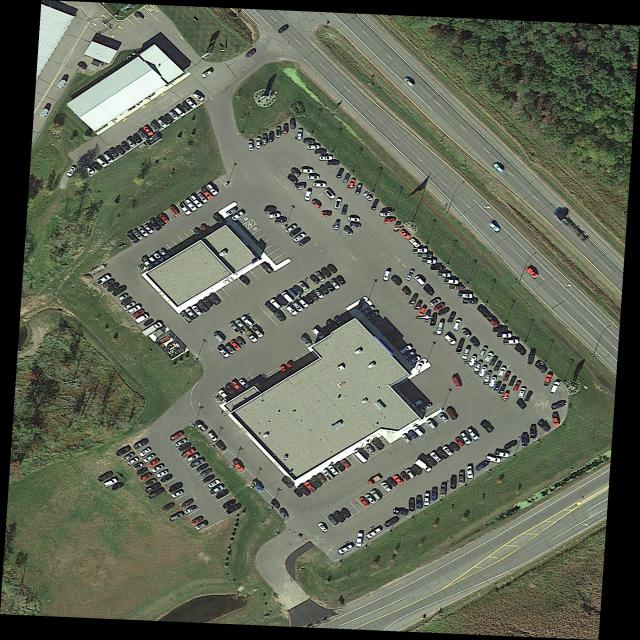large-vehicle: (141, 322, 164, 337), (235, 319, 249, 333), (466, 428, 480, 441), (366, 528, 382, 539), (383, 517, 399, 528), (536, 420, 550, 432), (486, 316, 500, 328), (477, 306, 490, 318), (526, 267, 539, 279), (241, 316, 254, 328), (251, 326, 264, 338), (460, 432, 472, 445), (480, 421, 493, 433), (446, 408, 458, 421), (411, 426, 425, 437), (451, 376, 462, 389), (399, 345, 412, 355), (393, 508, 409, 516), (423, 286, 434, 297), (443, 278, 459, 285), (430, 313, 438, 326), (414, 276, 425, 285), (371, 199, 380, 210), (503, 339, 519, 345), (416, 497, 423, 510), (436, 322, 444, 333), (521, 435, 528, 447), (408, 500, 415, 512), (457, 293, 473, 298), (449, 285, 465, 290), (530, 427, 537, 438), (493, 328, 508, 333), (463, 299, 478, 304), (497, 334, 511, 338)
small-vehicle: (413, 458, 431, 473), (224, 384, 239, 398), (149, 487, 166, 499), (224, 503, 241, 515), (353, 449, 367, 463), (111, 285, 127, 297), (132, 439, 149, 450), (212, 213, 226, 226), (207, 293, 221, 306), (367, 473, 381, 486), (251, 478, 264, 492), (371, 438, 385, 451), (145, 482, 161, 493), (338, 544, 354, 555), (190, 195, 203, 208), (199, 223, 212, 236), (179, 311, 192, 324), (279, 365, 292, 378), (534, 362, 548, 374), (230, 381, 244, 393), (245, 331, 259, 343), (195, 420, 209, 432), (281, 476, 295, 488), (298, 484, 312, 496), (303, 481, 317, 493), (228, 322, 242, 334), (167, 483, 183, 493), (179, 203, 192, 215), (142, 258, 155, 270), (231, 459, 243, 472), (333, 511, 346, 523), (215, 440, 228, 452), (185, 308, 198, 320), (276, 23, 290, 34), (264, 302, 278, 313), (311, 328, 325, 339), (475, 461, 489, 472), (504, 439, 518, 450), (116, 446, 131, 456), (98, 472, 113, 482), (365, 310, 380, 320), (169, 430, 184, 440), (217, 346, 229, 358), (149, 219, 161, 231), (424, 455, 436, 467), (430, 452, 443, 463), (185, 200, 198, 211), (201, 188, 214, 199), (206, 184, 219, 195), (218, 390, 231, 401), (193, 229, 206, 240), (200, 297, 213, 308), (408, 293, 419, 306), (285, 363, 298, 374), (281, 292, 294, 303), (273, 311, 285, 322), (127, 232, 139, 243), (197, 301, 209, 312), (270, 498, 282, 509), (437, 448, 449, 459), (324, 281, 336, 292), (276, 295, 288, 306), (310, 477, 322, 488), (261, 263, 273, 274), (270, 299, 282, 310), (300, 336, 312, 347), (97, 275, 110, 285), (128, 305, 141, 315), (161, 473, 174, 483), (543, 374, 553, 387), (232, 211, 245, 221), (550, 402, 566, 410), (215, 490, 229, 499), (103, 478, 117, 487), (170, 513, 184, 522), (177, 443, 191, 452), (222, 499, 236, 508), (321, 267, 332, 278), (328, 465, 339, 476), (387, 477, 398, 488), (340, 508, 351, 519), (305, 294, 316, 305), (324, 189, 336, 199), (409, 238, 421, 248), (292, 302, 304, 312), (286, 306, 298, 316), (442, 446, 454, 456), (380, 482, 392, 492), (444, 335, 456, 345), (514, 346, 526, 356), (457, 337, 465, 352), (550, 382, 560, 394), (486, 455, 501, 463), (494, 450, 509, 458), (135, 314, 148, 323), (196, 463, 209, 472), (191, 459, 204, 468), (393, 220, 402, 233), (438, 307, 451, 316), (292, 285, 303, 295), (405, 468, 415, 479), (371, 490, 382, 500), (359, 497, 370, 507), (470, 338, 481, 348), (316, 473, 327, 483), (169, 206, 180, 216), (138, 227, 149, 237), (103, 153, 114, 163), (230, 340, 241, 350), (192, 306, 203, 316), (240, 275, 251, 285), (213, 333, 224, 343), (333, 317, 344, 327), (120, 141, 131, 151), (155, 216, 166, 226), (279, 507, 289, 518), (294, 233, 306, 242), (299, 237, 311, 246), (298, 299, 310, 308), (107, 283, 119, 292), (124, 302, 136, 311), (139, 448, 151, 457), (143, 454, 155, 463), (148, 458, 160, 467), (175, 439, 187, 448), (343, 172, 352, 184), (185, 506, 198, 514), (408, 356, 421, 364), (336, 276, 346, 286), (330, 279, 340, 289), (314, 289, 324, 299), (393, 475, 403, 485), (365, 494, 375, 504), (328, 515, 338, 525), (245, 49, 255, 59), (449, 442, 459, 452), (516, 400, 526, 410), (408, 430, 418, 440), (66, 167, 76, 177), (400, 230, 411, 239), (298, 282, 309, 291), (391, 276, 402, 285), (421, 404, 432, 413), (364, 306, 375, 315), (84, 166, 95, 175), (92, 162, 103, 171), (97, 158, 108, 167), (174, 107, 185, 116), (186, 99, 197, 108), (239, 379, 250, 388), (159, 249, 170, 258), (112, 482, 123, 491), (287, 175, 298, 184), (78, 61, 89, 70), (131, 135, 142, 144), (163, 502, 174, 511), (356, 299, 365, 310), (319, 285, 330, 294), (309, 292, 320, 301), (411, 466, 422, 475), (227, 207, 238, 216), (415, 362, 424, 373), (356, 533, 363, 547), (411, 400, 423, 408), (285, 225, 297, 233), (123, 453, 135, 461), (192, 93, 204, 101), (203, 475, 215, 483), (208, 480, 220, 488), (187, 454, 199, 462), (145, 479, 157, 487), (152, 465, 164, 473), (191, 517, 203, 525), (552, 414, 560, 426), (201, 70, 213, 78), (404, 351, 416, 359), (311, 200, 321, 209), (363, 192, 373, 201), (328, 264, 338, 273), (315, 272, 325, 281), (310, 275, 320, 284), (343, 227, 353, 236), (406, 270, 415, 280), (426, 420, 436, 429), (402, 434, 411, 444), (455, 437, 465, 446), (335, 462, 345, 471), (447, 313, 456, 323), (461, 329, 471, 338), (414, 301, 423, 311), (479, 347, 488, 357), (198, 194, 208, 203), (159, 214, 169, 223), (109, 149, 119, 158), (116, 146, 126, 155), (126, 138, 136, 147), (138, 130, 148, 139), (144, 126, 154, 135), (150, 122, 160, 131), (157, 119, 167, 128), (133, 230, 143, 239), (208, 432, 217, 442), (225, 345, 235, 354), (236, 338, 246, 347), (154, 253, 164, 262), (149, 256, 159, 265), (162, 115, 172, 124), (293, 488, 303, 497), (134, 12, 144, 21), (404, 78, 414, 87), (490, 223, 500, 232), (430, 298, 441, 306), (434, 303, 445, 311), (462, 348, 470, 359), (290, 228, 301, 236), (103, 280, 114, 288), (133, 310, 144, 318), (168, 112, 179, 120), (213, 485, 224, 493), (200, 469, 211, 477), (141, 473, 152, 481), (157, 470, 168, 478), (172, 490, 183, 498), (195, 523, 206, 531), (180, 103, 191, 111), (527, 354, 535, 365), (493, 164, 504, 172), (425, 309, 432, 321), (288, 289, 297, 298), (402, 288, 411, 297), (365, 445, 374, 454), (318, 523, 327, 532), (341, 459, 350, 468), (439, 413, 448, 422), (484, 353, 493, 362), (489, 357, 498, 366), (508, 377, 517, 386), (494, 381, 502, 391), (489, 377, 497, 387), (484, 372, 492, 382), (453, 320, 461, 330), (494, 361, 502, 371), (469, 356, 477, 366), (479, 367, 487, 377), (122, 297, 132, 305), (144, 225, 154, 233), (181, 501, 191, 509), (498, 367, 506, 377), (518, 388, 526, 398), (525, 391, 533, 401), (337, 167, 344, 178), (335, 198, 342, 209), (143, 319, 154, 326), (128, 458, 139, 465), (137, 468, 148, 475), (412, 248, 427, 253), (291, 169, 300, 177), (383, 271, 391, 280), (418, 307, 426, 316), (474, 362, 482, 371), (503, 372, 511, 381), (513, 382, 521, 391), (501, 392, 509, 401), (424, 493, 430, 505), (467, 466, 473, 478), (304, 191, 311, 201), (133, 463, 143, 470), (422, 259, 436, 264), (306, 145, 320, 150), (319, 156, 333, 161), (459, 473, 465, 484), (262, 134, 268, 145), (297, 129, 303, 140), (301, 168, 314, 173), (274, 218, 287, 223), (119, 294, 128, 301), (264, 208, 276, 213), (349, 179, 355, 189), (384, 218, 396, 223), (348, 217, 360, 222), (268, 213, 280, 218), (441, 484, 446, 496), (451, 477, 456, 489), (248, 141, 254, 151), (314, 150, 326, 155), (437, 273, 451, 277), (308, 175, 319, 180), (432, 490, 437, 501), (256, 137, 261, 148), (342, 205, 348, 214), (334, 221, 340, 230), (283, 124, 289, 133), (313, 183, 326, 187), (430, 266, 443, 270), (327, 162, 340, 166), (321, 212, 331, 217), (276, 127, 281, 137), (269, 132, 274, 142), (291, 119, 296, 129), (349, 224, 361, 228), (303, 140, 315, 144), (356, 185, 361, 194), (294, 185, 305, 189), (382, 208, 392, 212), (380, 213, 390, 216)
